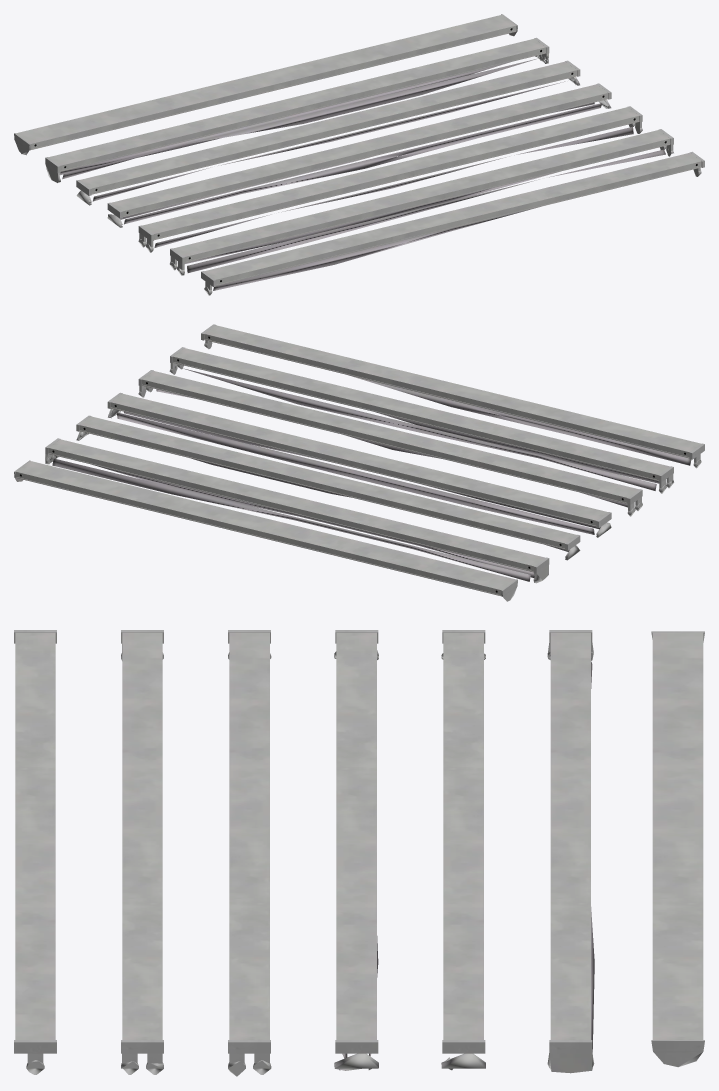
The picture shows the model from 3 angles, top to bottom: view 1: azimuth 30°, elevation 25°; view 2: azimuth 150°, elevation 25°; view 3: azimuth 270°, elevation 25°; orthographic projection. The views are drawn at different scales.
Visible parts, largest first — view 1: mounted_fluorescent_lights_a; view 2: mounted_fluorescent_lights_a; view 3: mounted_fluorescent_lights_a.
Part boxes in pixels (x1,y1,x2,y2): mounted_fluorescent_lights_a: (14, 14, 704, 295); mounted_fluorescent_lights_a: (14, 324, 704, 601); mounted_fluorescent_lights_a: (14, 630, 704, 1076).
Bounding box in the file's own units: 0.9122 × 0.0353 × 0.6453.
2 materials, 2 textured.
